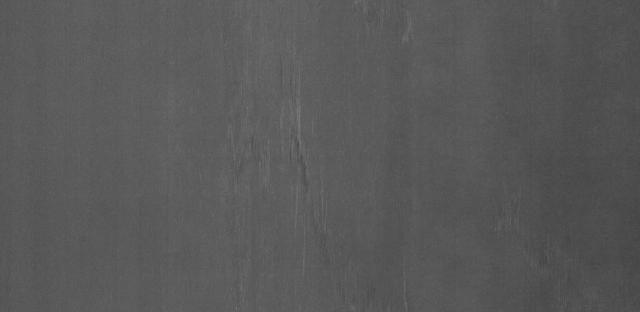silk_spot: (180, 66, 365, 211)
